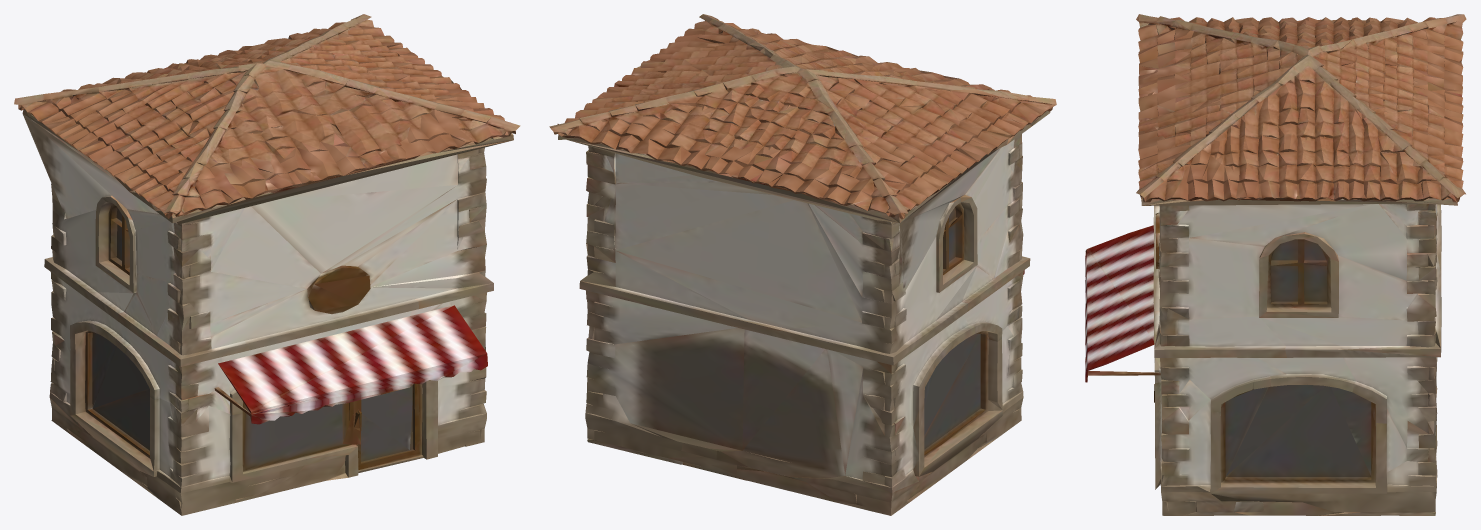
The model's file is pizzeria.glb.
The picture shows the model from 3 angles, left to right: view 1: azimuth 30°, elevation 25°; view 2: azimuth 150°, elevation 25°; view 3: azimuth 270°, elevation 25°; orthographic projection. The views are drawn at different scales.
Parts seen in each view (by area): view 1: Mesh_0; view 2: Mesh_0; view 3: Mesh_0.
Boxes of the visible parts, x1,y1,x2,y2 form: Mesh_0: [14, 14, 520, 515]; Mesh_0: [549, 14, 1056, 515]; Mesh_0: [1085, 14, 1466, 515].
Size of the model in its own units: 7.16 by 7 by 6.28.
1 material, 1 textured.
